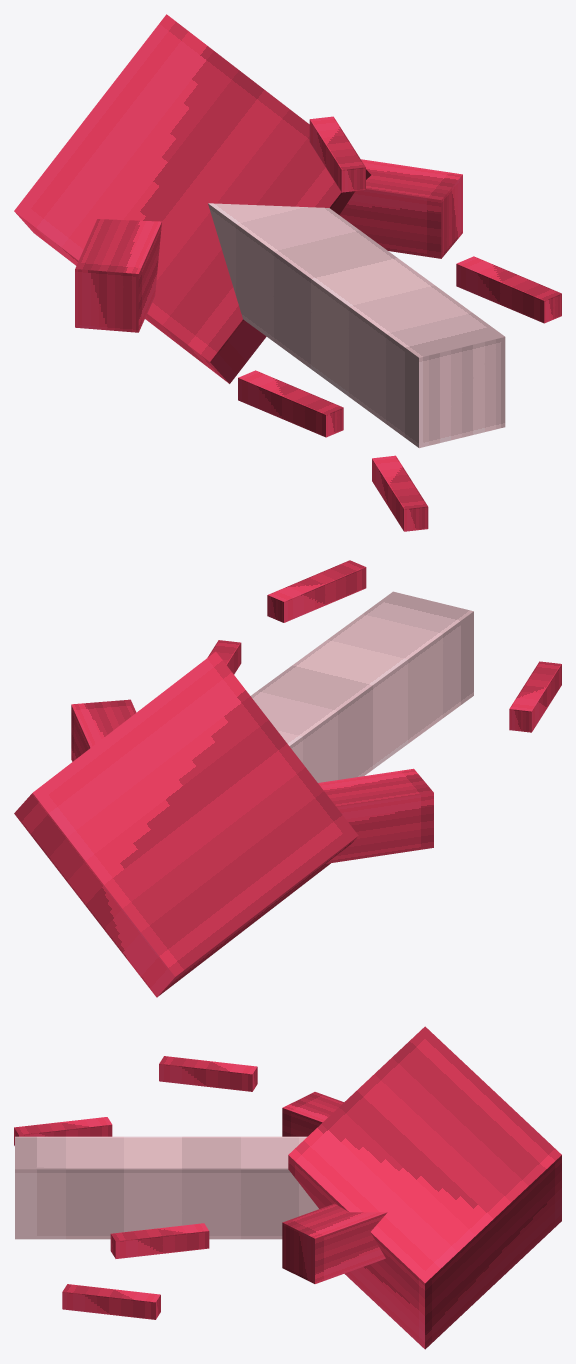
Rendered from throne_shot_red.gltf.
3 views of the same model, one above another, from view 1: azimuth 30°, elevation 25°; view 2: azimuth 150°, elevation 25°; view 3: azimuth 270°, elevation 25° (orthographic). The views are drawn at different scales.
Parts seen in each view (by area): view 1: core_mesh; view 2: core_mesh; view 3: core_mesh.
Boxes of the visible parts, left/top/right/bottom form: core_mesh: left=14, top=14, right=561, bottom=531; core_mesh: left=14, top=560, right=561, bottom=997; core_mesh: left=14, top=1026, right=561, bottom=1349.
Size of the model in its own units: 0.674 by 0.6402 by 1.06.
Materials: 1 (1 with a texture image).
